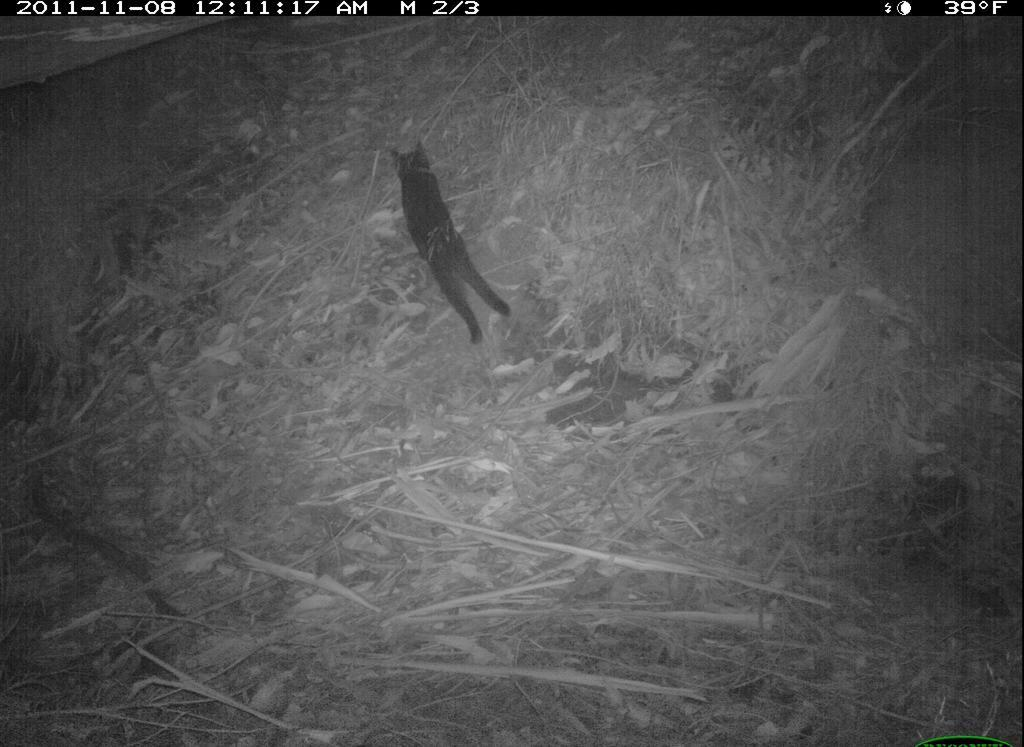cat: (377, 132, 525, 359)
